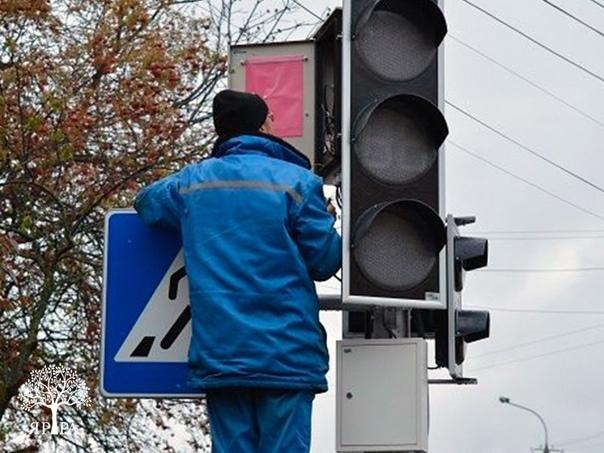obstructed_road_sign: (100, 210, 204, 396)
off traffic light: (339, 1, 450, 300), (447, 216, 490, 383)
